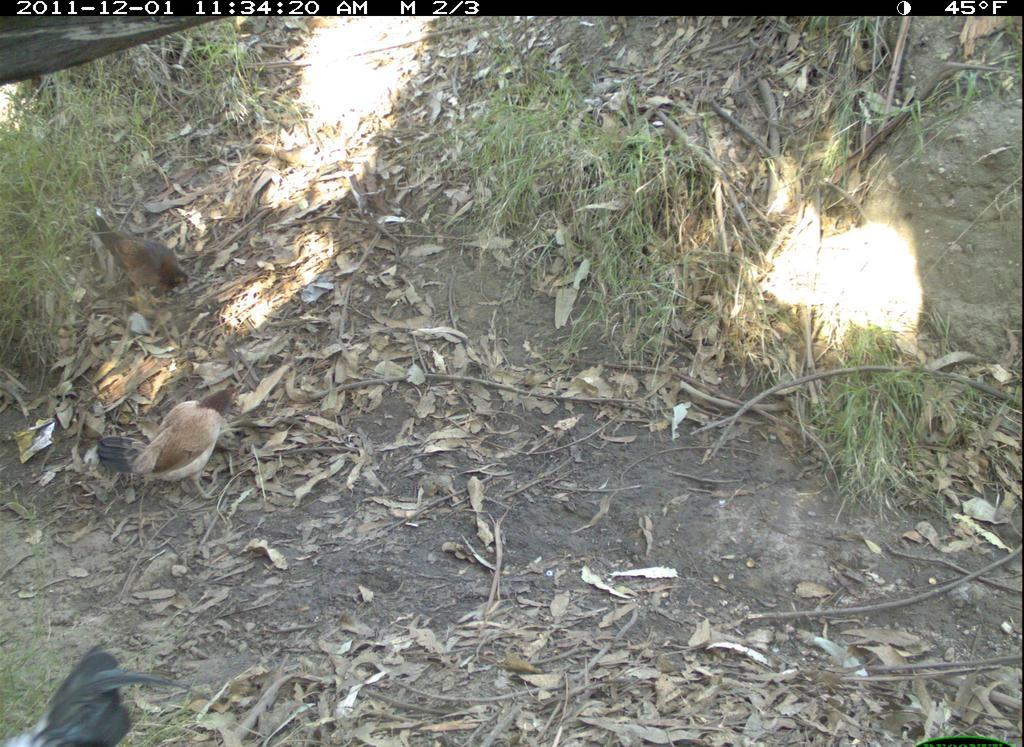bird: (2, 638, 205, 747)
